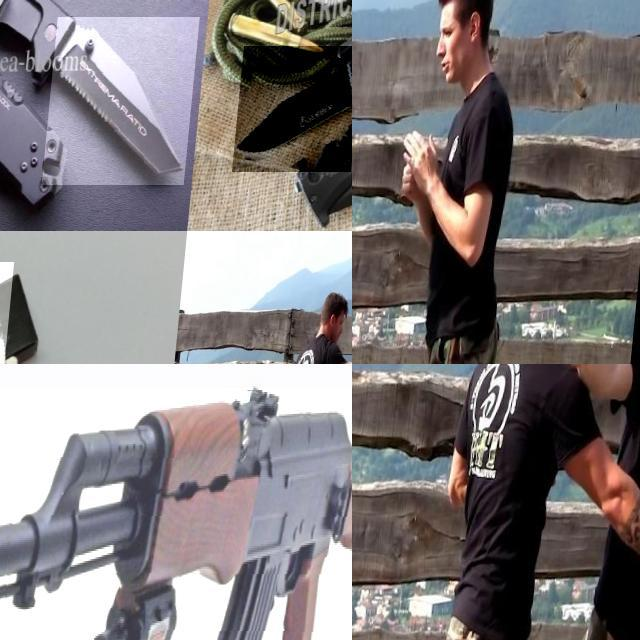-: (47, 17, 202, 185), (237, 46, 352, 172), (0, 262, 61, 364), (352, 99, 377, 212)
gun-knife-thesis - v11 Yolov5 augmented: (0, 387, 352, 640)
